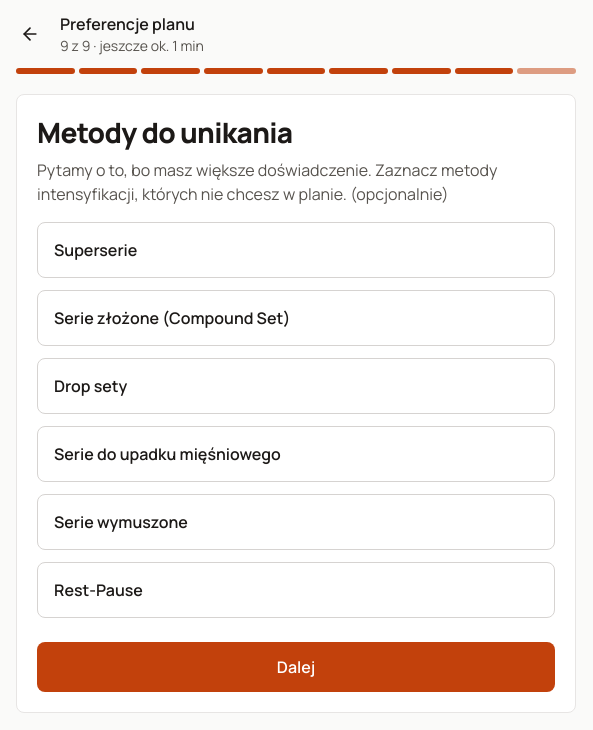
Scenario: preferences stage: exercises and methods to avoid for the EFFECTIVE intermediate / advanced level (23.10) › 'Metody do unikania': multi-choice of the generator's list, several at once
The width and height of the screenshot is (593, 730).
Click the button "Drop sety": click(91, 386) [37, 358, 555, 414]
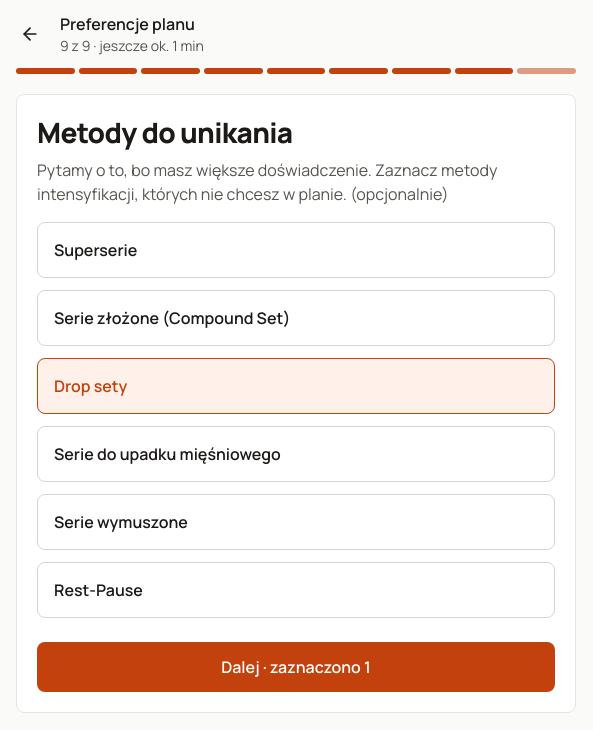
Click the button "Rest-Pause": click(98, 590) [37, 562, 555, 618]
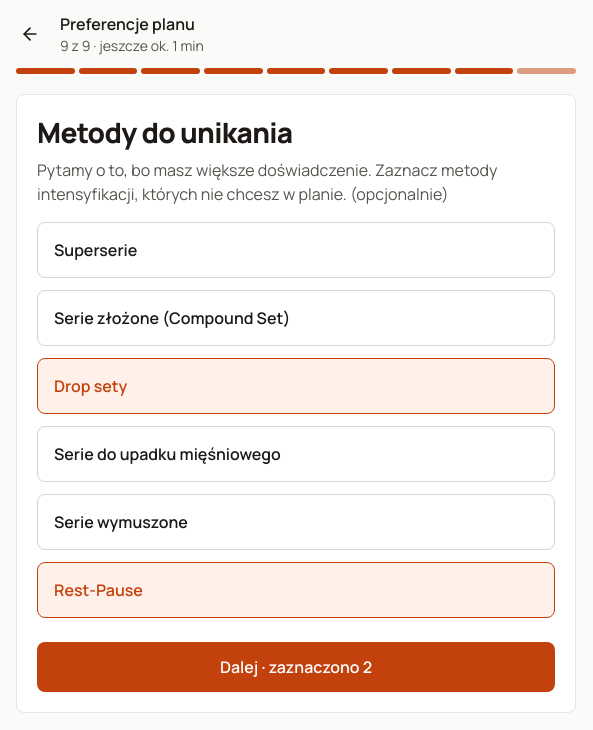
Expected: the button with test id "next" is enabled, [37, 642, 555, 692]
Result: the button with test id "next" shows "zaznaczono 2" at [37, 642, 555, 692]
